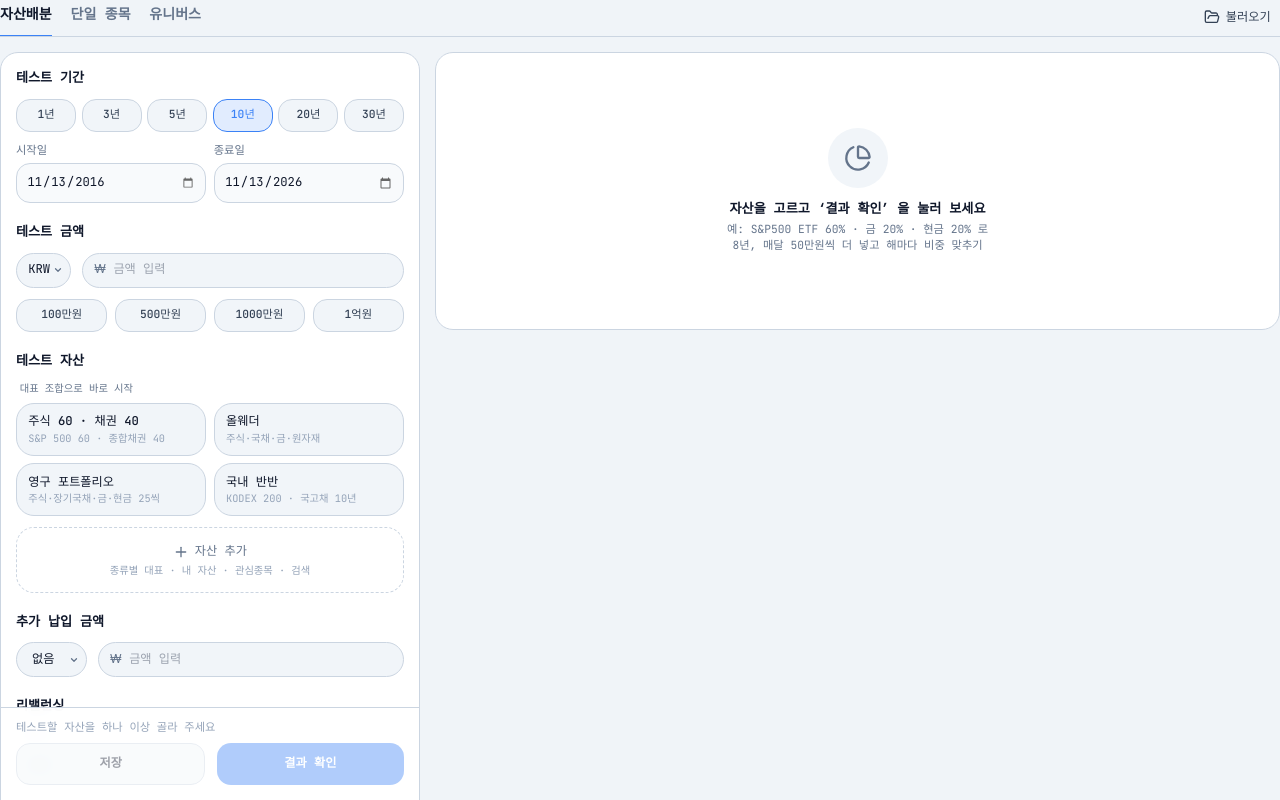
Test case: 3) 결과 화면에서 저장 › 결과 머리의 '결과 저장' — 결과를 낸 종목·기간·자본·조건까지 담는다
Click the tab "단일 종목".
click(101, 18)  # box [70,0,131,37]
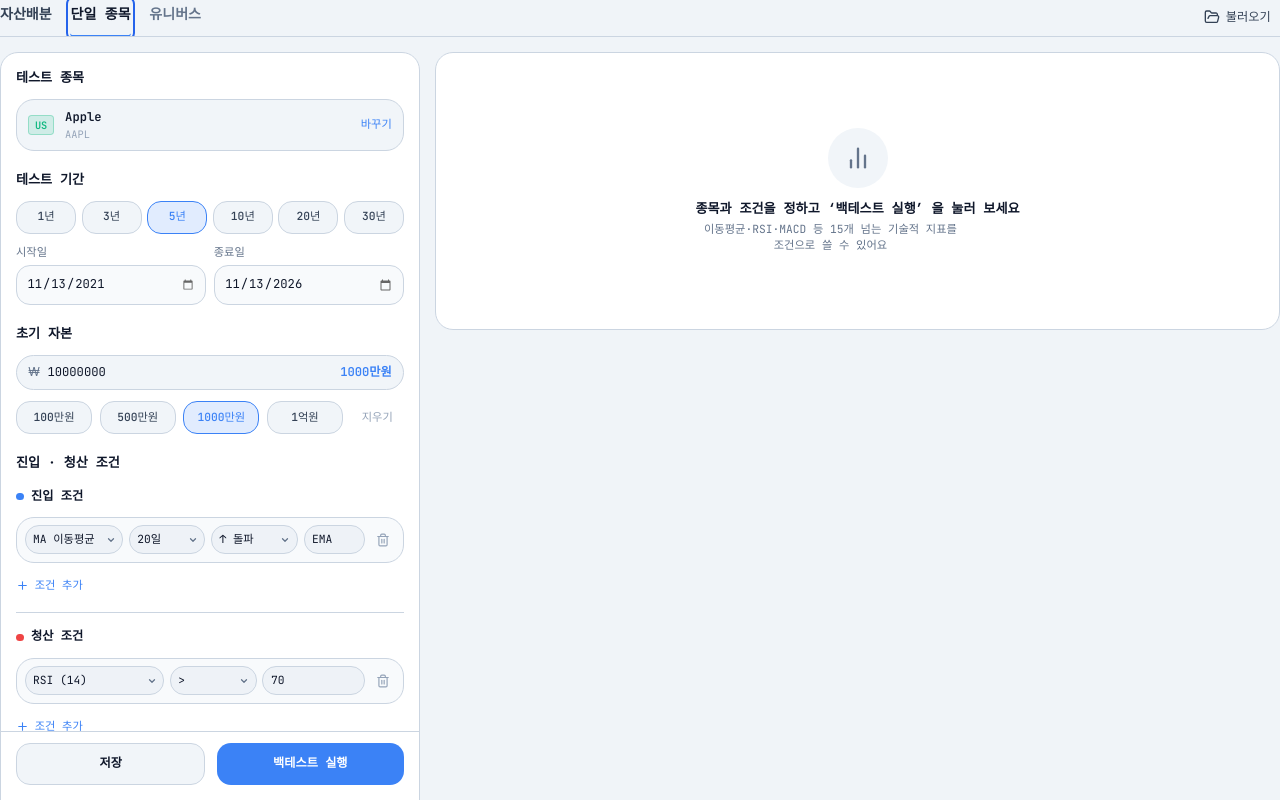
Type "2021-01-04" into the date field labelled "시작일".
click(111, 285); type("2021-01-04")  # box [16,265,206,305]
Type "2023-12-29" into the date field labelled "종료일".
click(309, 285); type("2023-12-29")  # box [214,265,404,305]
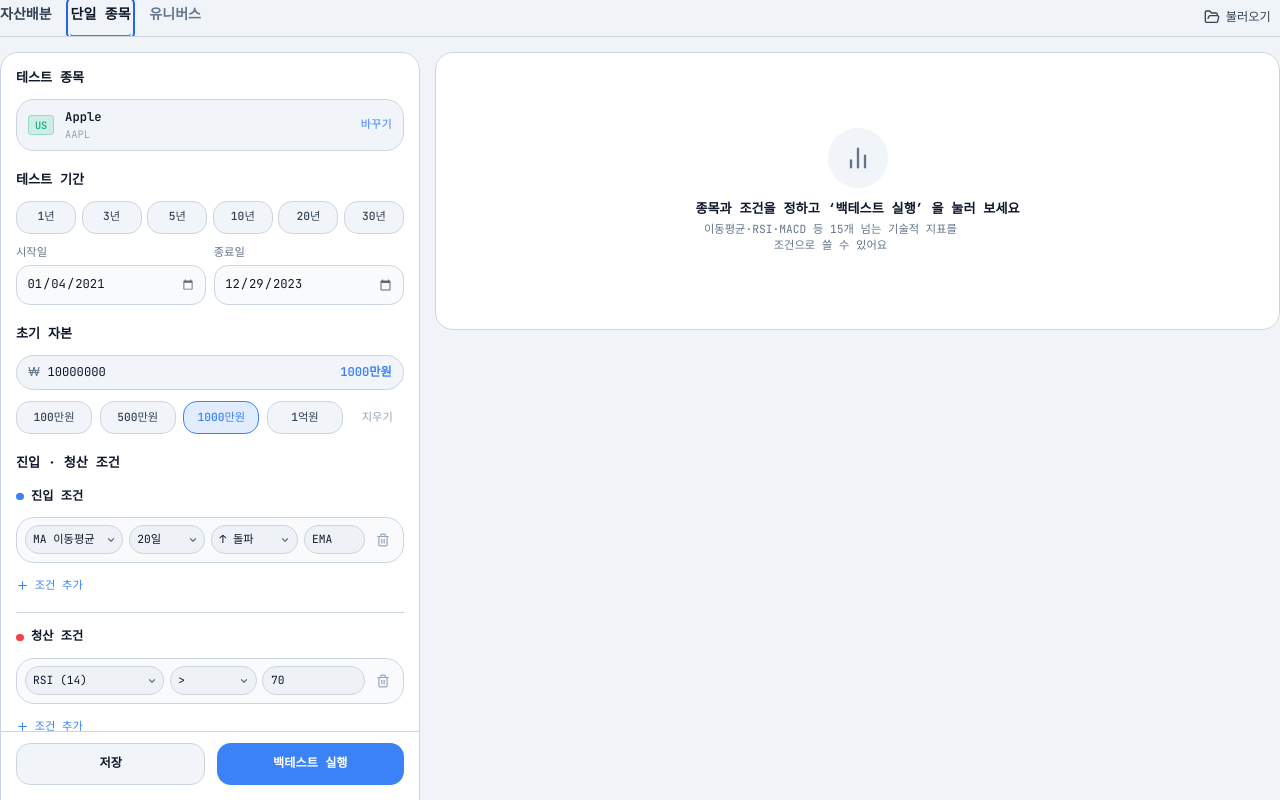
Click the button "백테스트 실행".
click(310, 764)  # box [217,743,404,785]
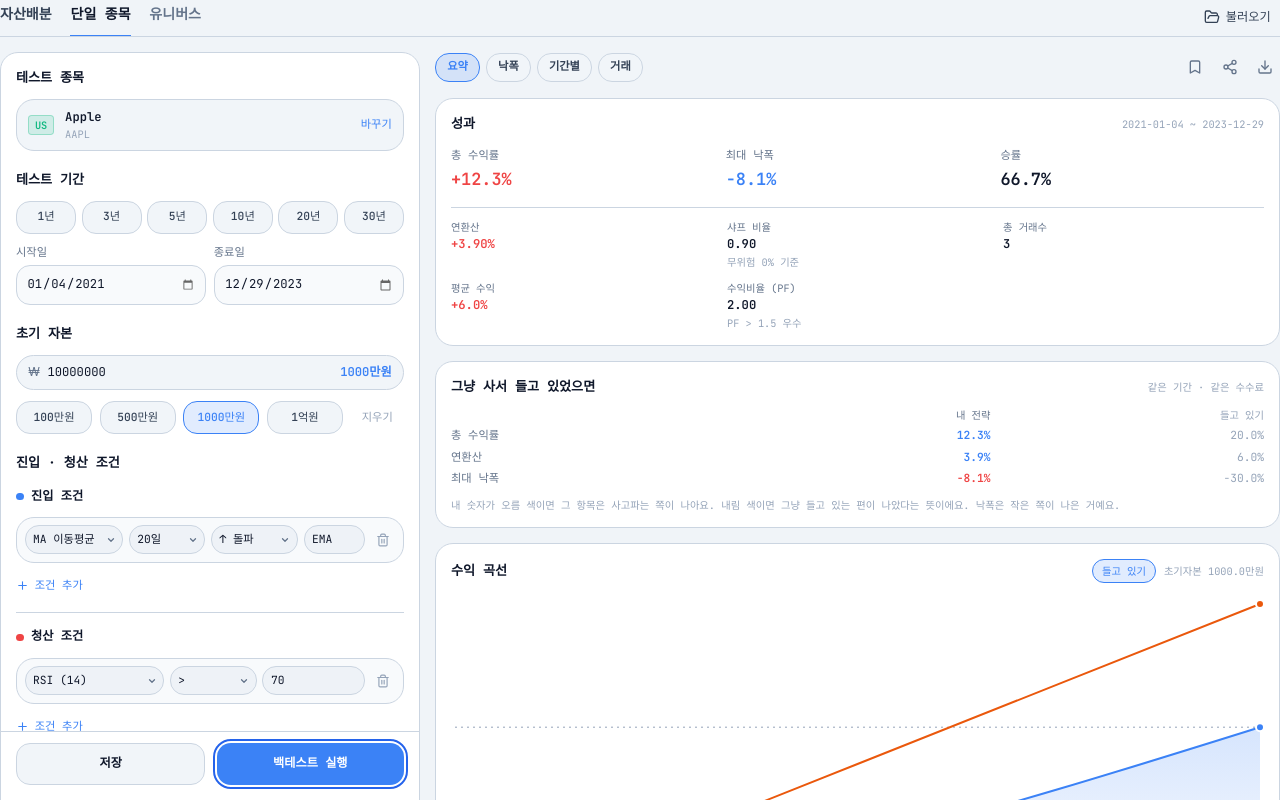
Result: the text "성과" is shown at [451,114,475,133]
Click the button named "결과 저장".
click(1195, 67)  # box [1180,52,1210,83]
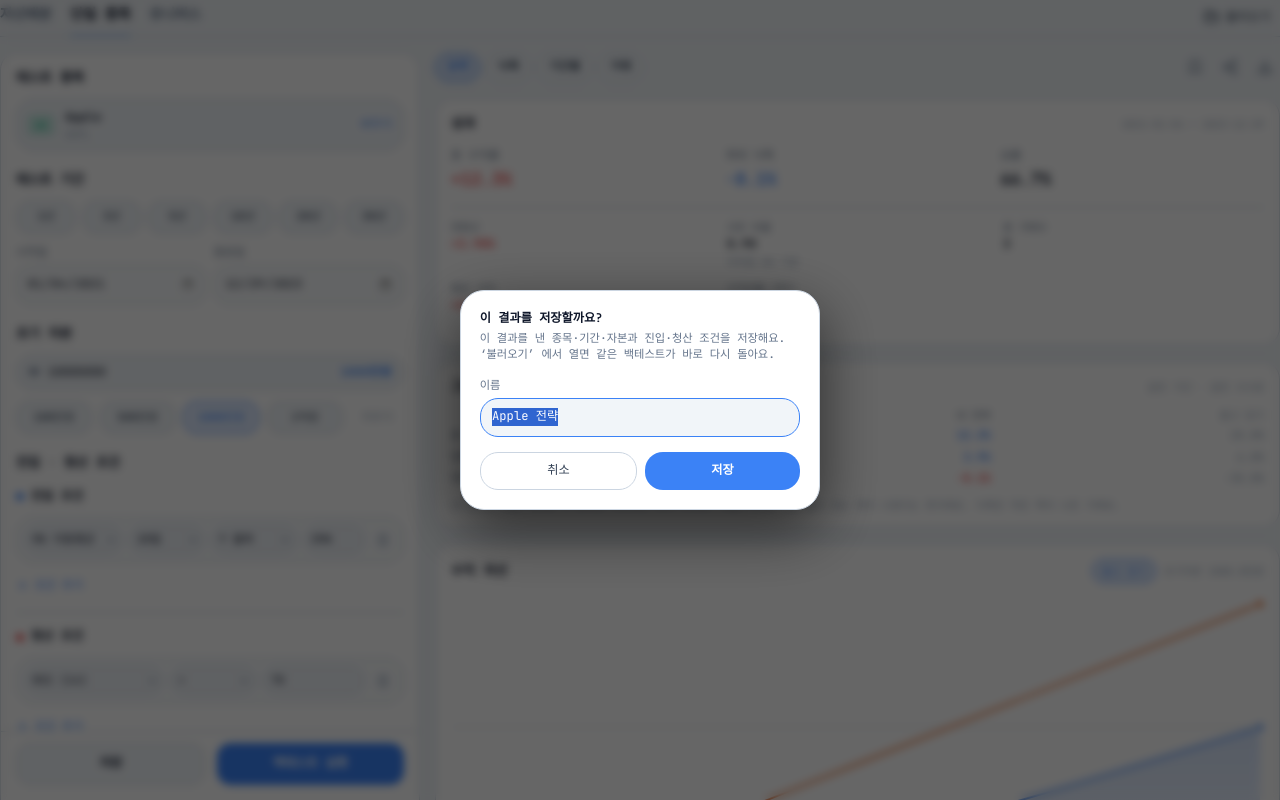
Result: the field labelled "이름" holds "Apple 전략"
Clear the field labelled "이름" at (640, 417), box [480,398,800,437]
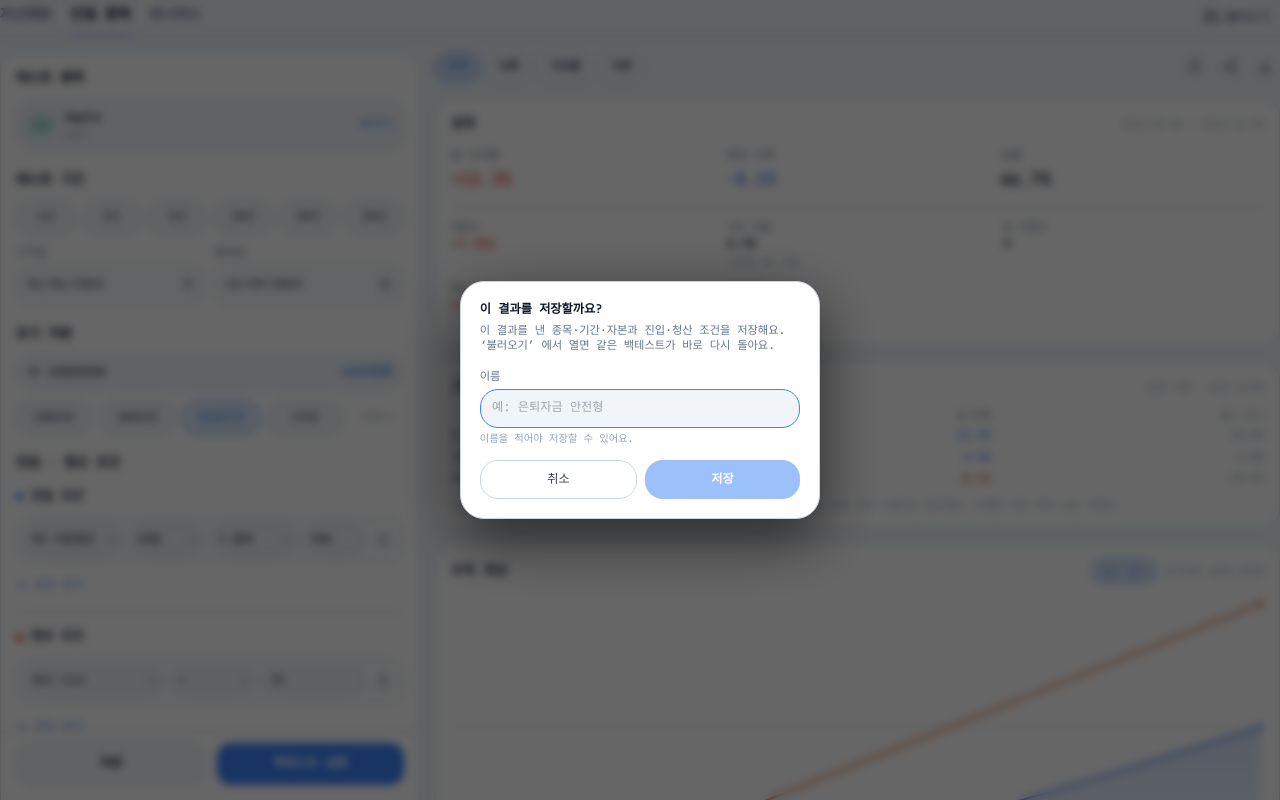
Type "애플 이평" into the field labelled "이름".
click(640, 408); type("애플 이평")  # box [480,389,800,428]
Then press Enter
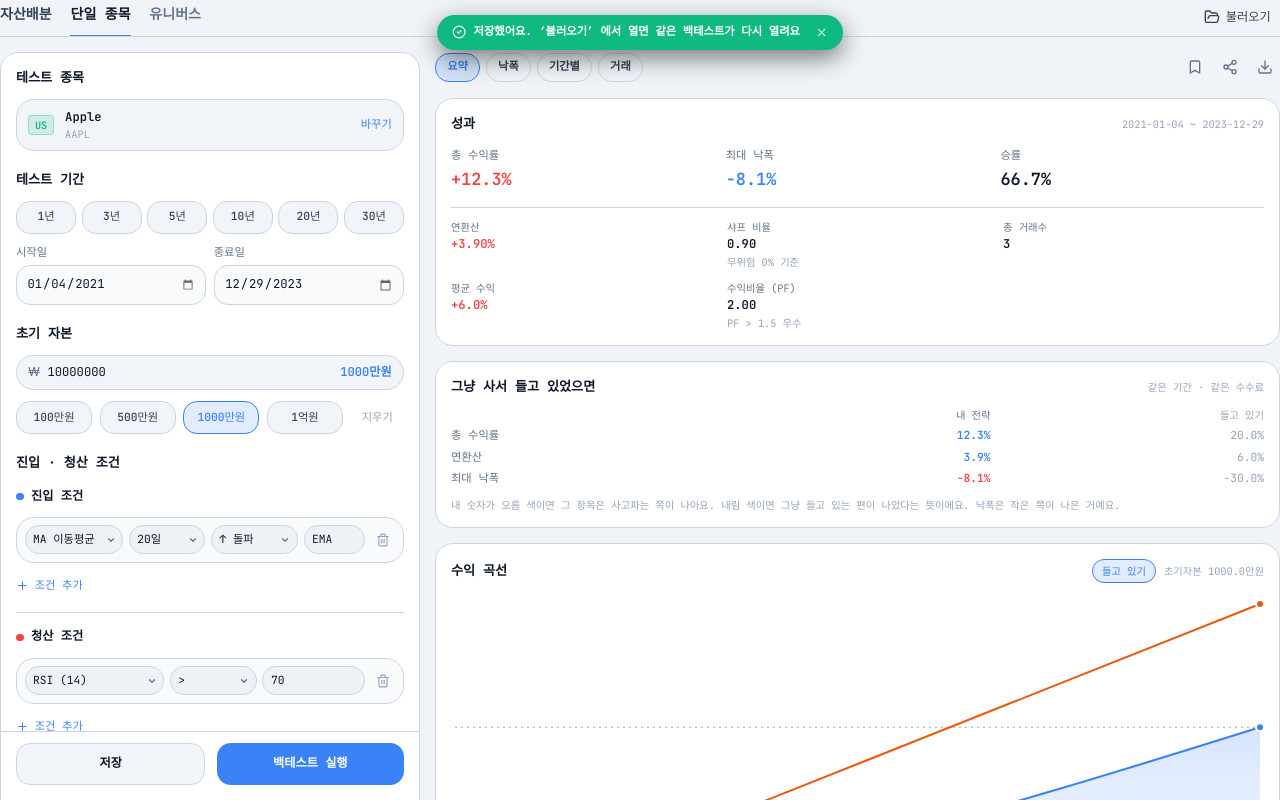
Result: the text "저장했어요. ‘불러오기’ 에서 열면 같은 백테스트가 다시 열려요" is shown at [474,24,800,40]
